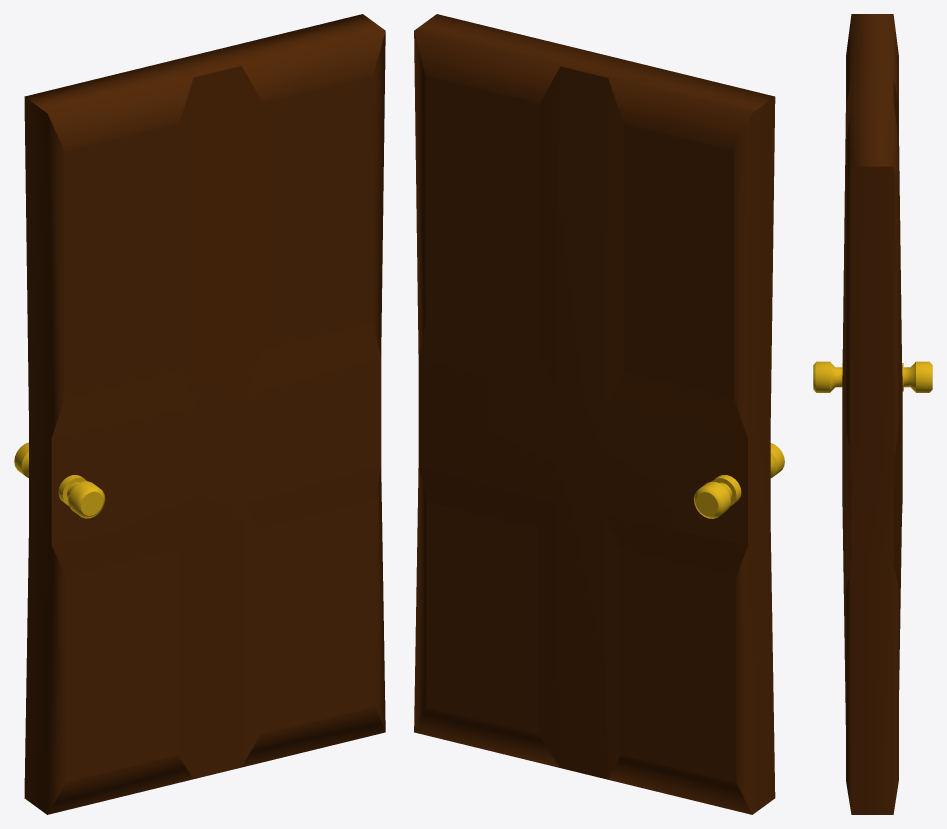
Rendered from door.fbx.
3 renders of one model, left to right at view 1: azimuth 30°, elevation 25°; view 2: azimuth 150°, elevation 25°; view 3: azimuth 270°, elevation 25°, orthographic. The views are drawn at different scales.
Parts seen in each view (by area): view 1: pCube7; view 2: pCube7; view 3: pCube7.
Boxes of the visible parts, x1,y1,x2,y2 form: pCube7: [14, 14, 385, 814]; pCube7: [414, 14, 784, 814]; pCube7: [813, 14, 932, 814].
Size of the model in its own units: 3.27 by 6.48 by 1.08.
